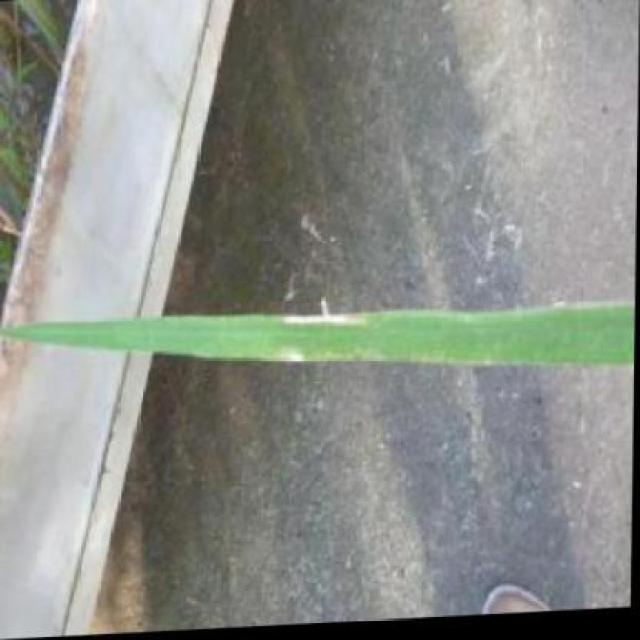Brown_Spot: (7, 289, 635, 405)
